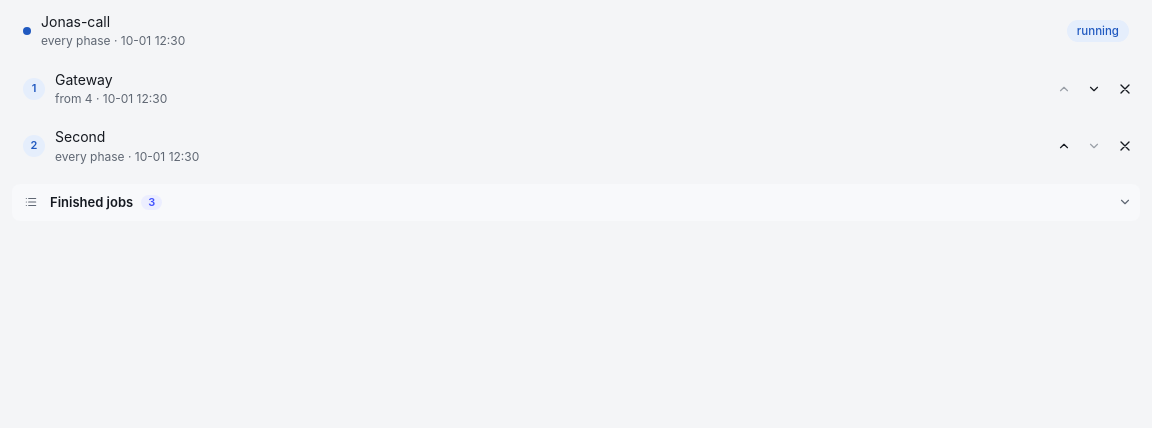
QueuePanel › keeps ended jobs in Finished jobs, newest first, with their status and exit code
Later steps or results of the test are not shown.
Click the button "Finished jobs 3".
click(92, 202)  # box [46,188,1136,217]
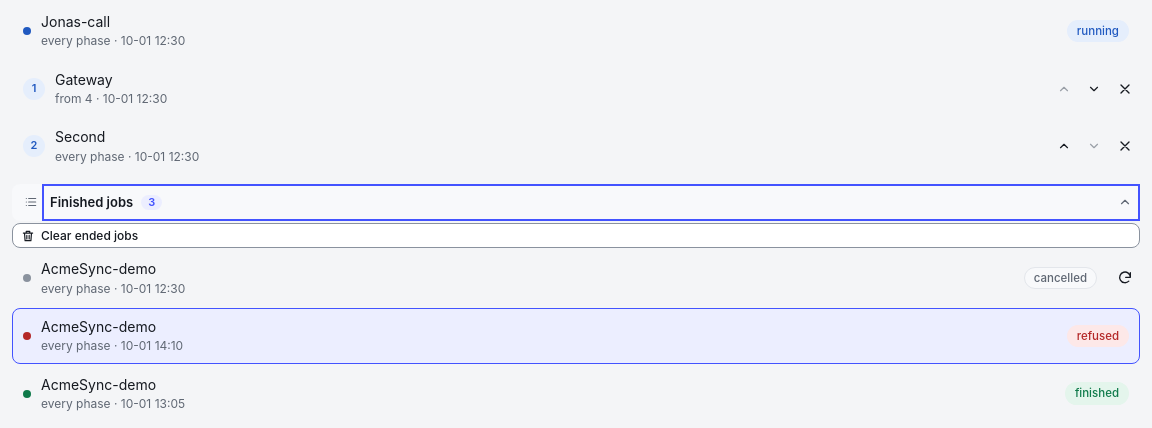
Now the button "AcmeSync-demo every phase · 10-01 14:10 refused" is shown, box [12,308,1140,364]
